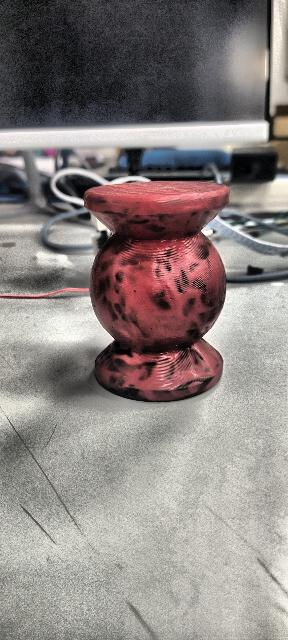red: (81, 167, 243, 399)
